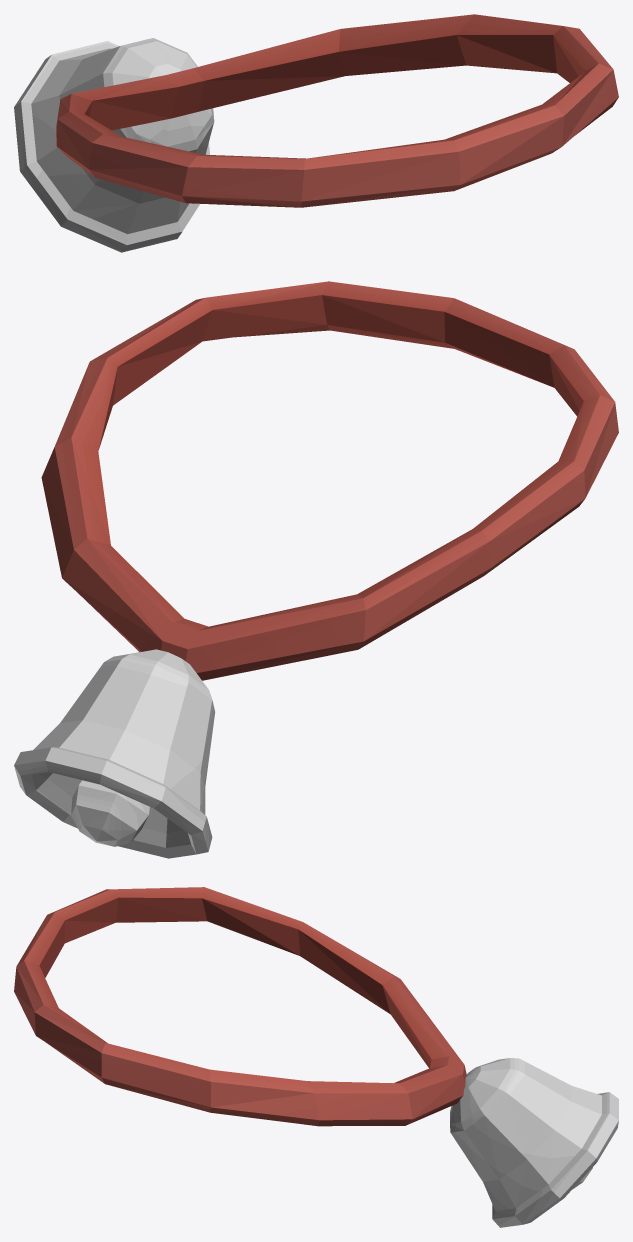
The model's file is CharSkyKid_Neck_AP24Bell.glb.
3 views of the same model, one above another, from view 1: azimuth 30°, elevation 25°; view 2: azimuth 150°, elevation 25°; view 3: azimuth 270°, elevation 25° (orthographic). The views are drawn at different scales.
Visible parts, largest first — view 1: CharSkyKid_Neck_AP24Bell; view 2: CharSkyKid_Neck_AP24Bell; view 3: CharSkyKid_Neck_AP24Bell.
Part boxes in pixels (<box>): CharSkyKid_Neck_AP24Bell: <box>14,14,618,252</box>; CharSkyKid_Neck_AP24Bell: <box>14,281,618,858</box>; CharSkyKid_Neck_AP24Bell: <box>14,887,618,1227</box>.
Bounding box in the file's own units: 1.94 × 1.22 × 2.61.
1 material, 1 textured.
